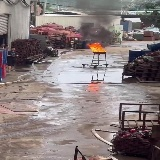fire: (87, 42, 108, 52)
